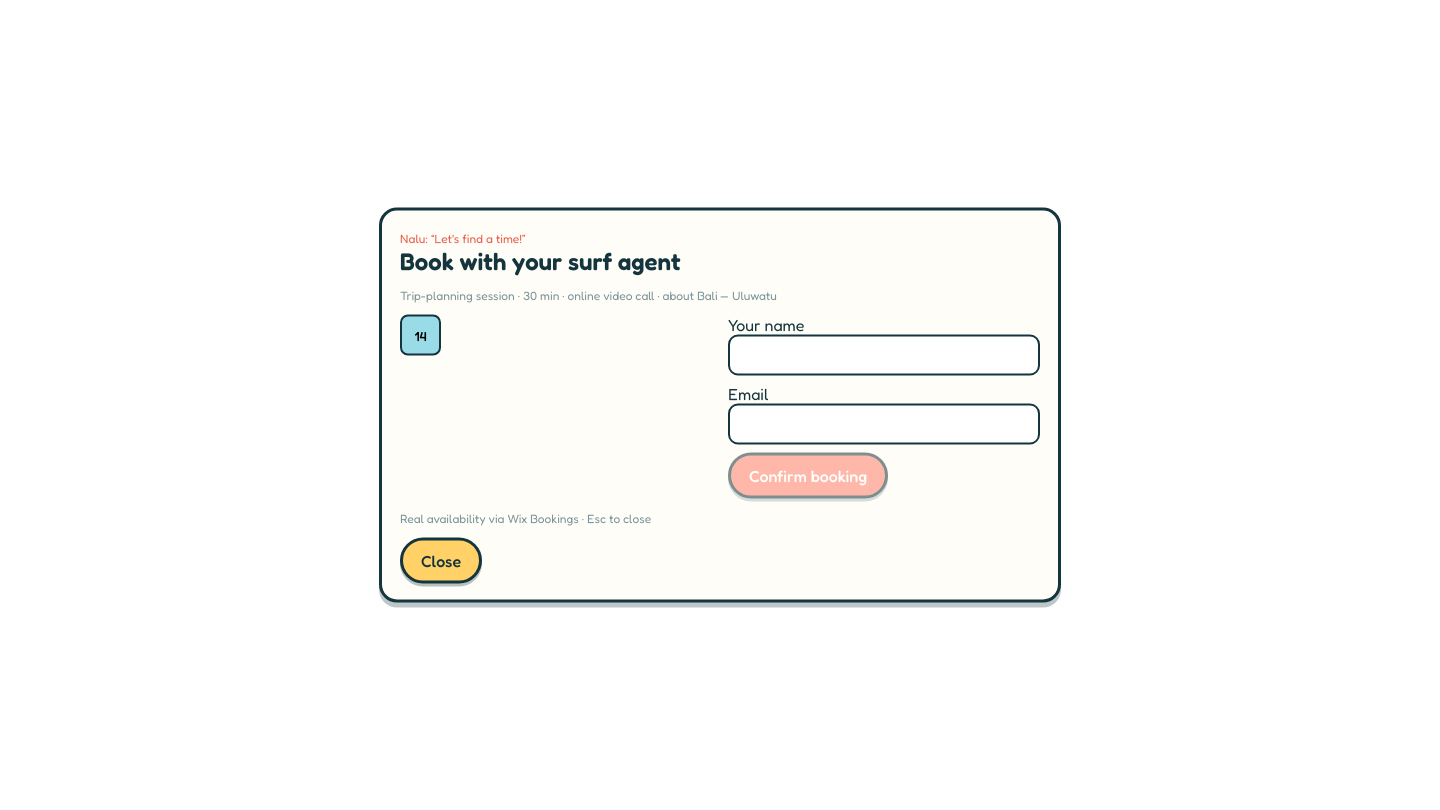
Test case: conflict re-queries and asks to pick another
Click the button "14" at (421, 335), box [400,314,441,356]
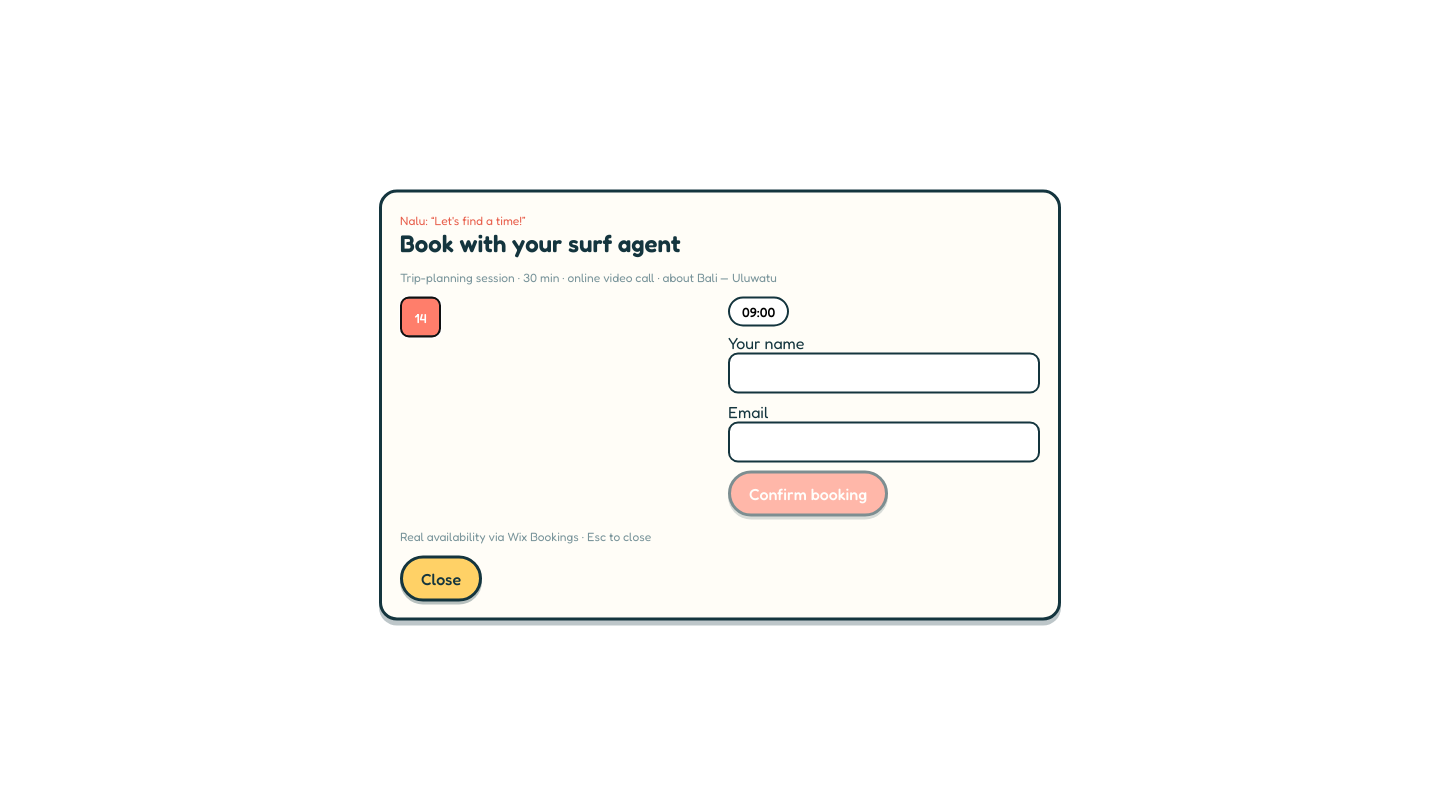
Click the button "09:00" at (759, 312), box [728,296,789,326]
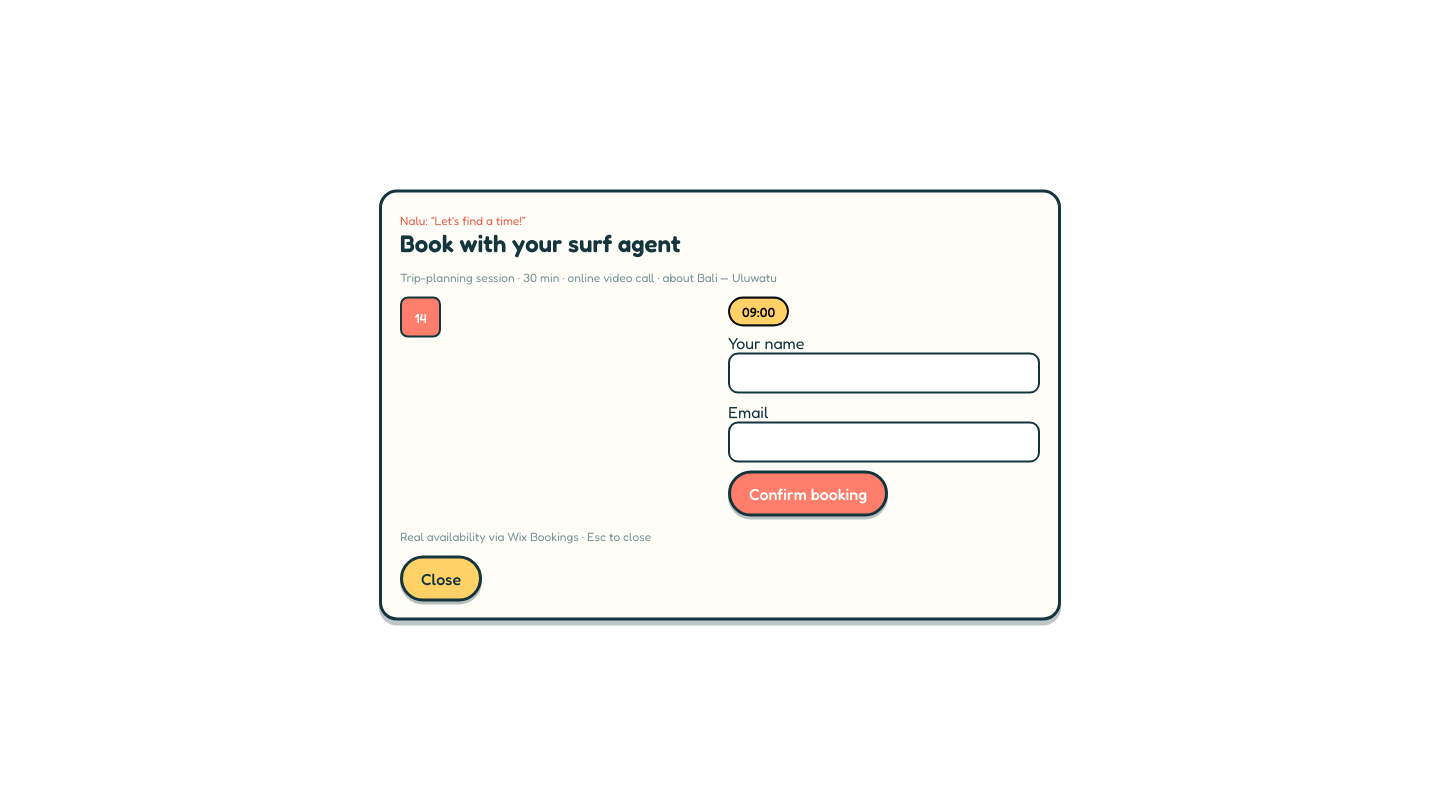
Type "Kai" into the field labelled "Your name" at (884, 373), box [728,352,1040,394]
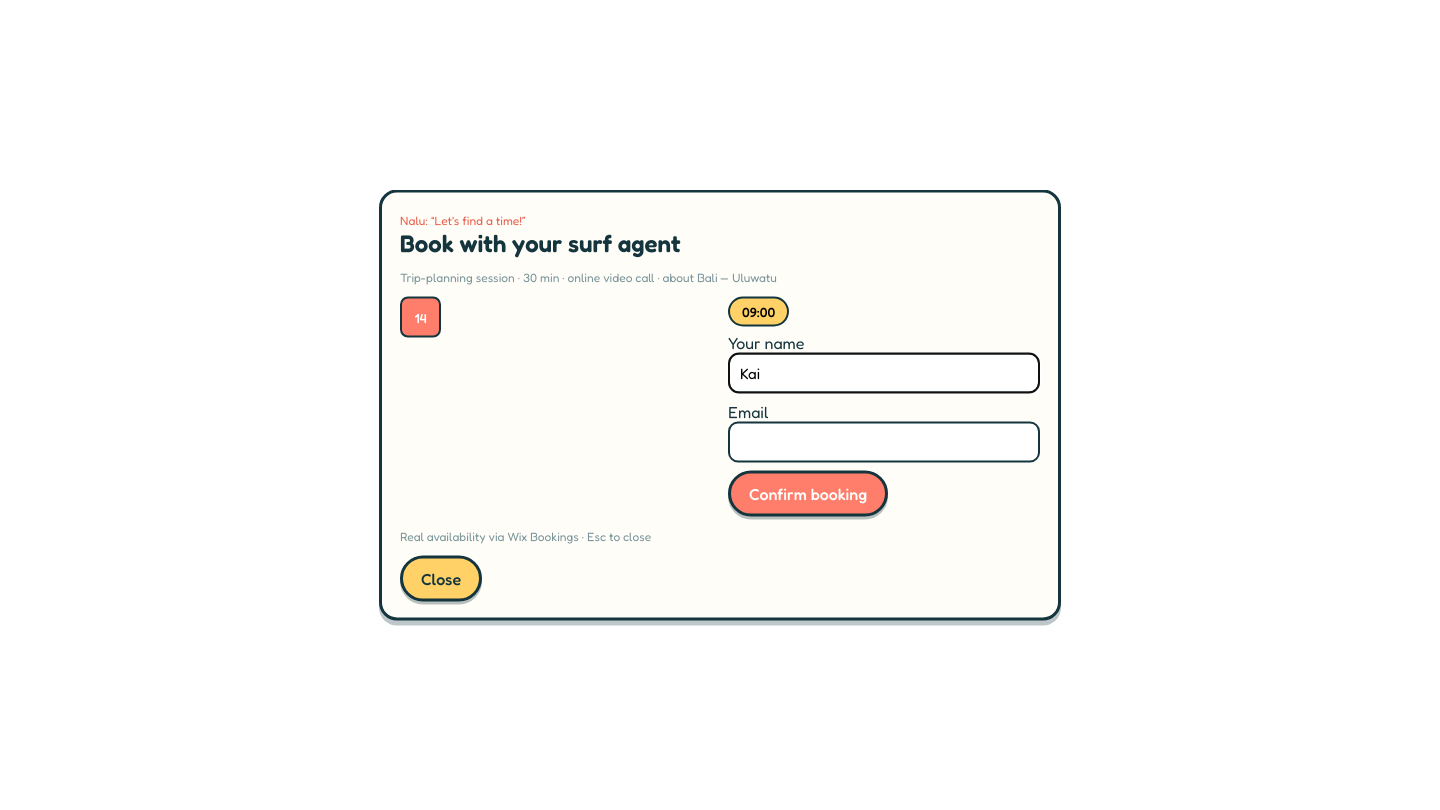
Type "kai@surf.com" into the field labelled "Email" at (884, 442), box [728,422,1040,462]
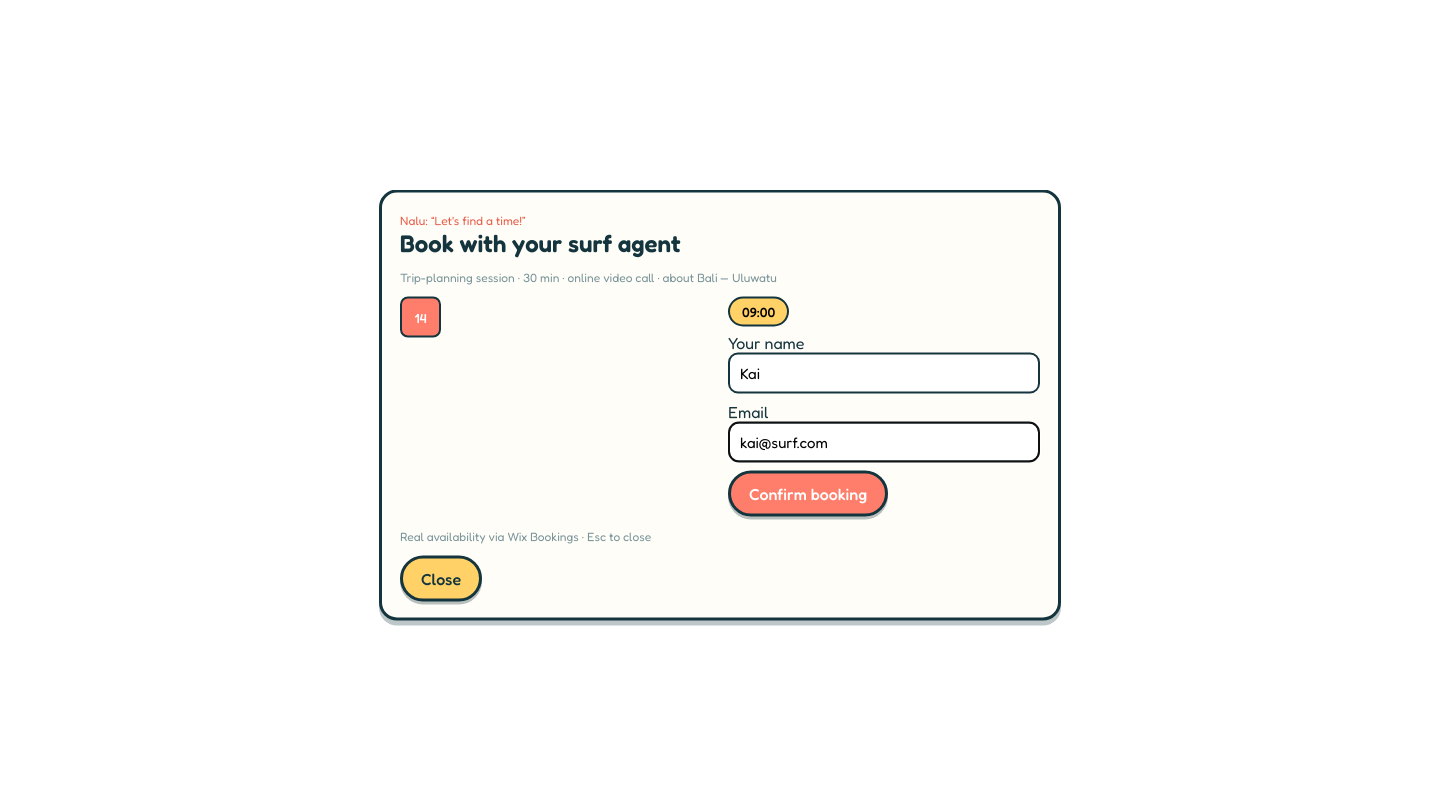
Click the button "Confirm booking" at (808, 494), box [728,470,888,516]
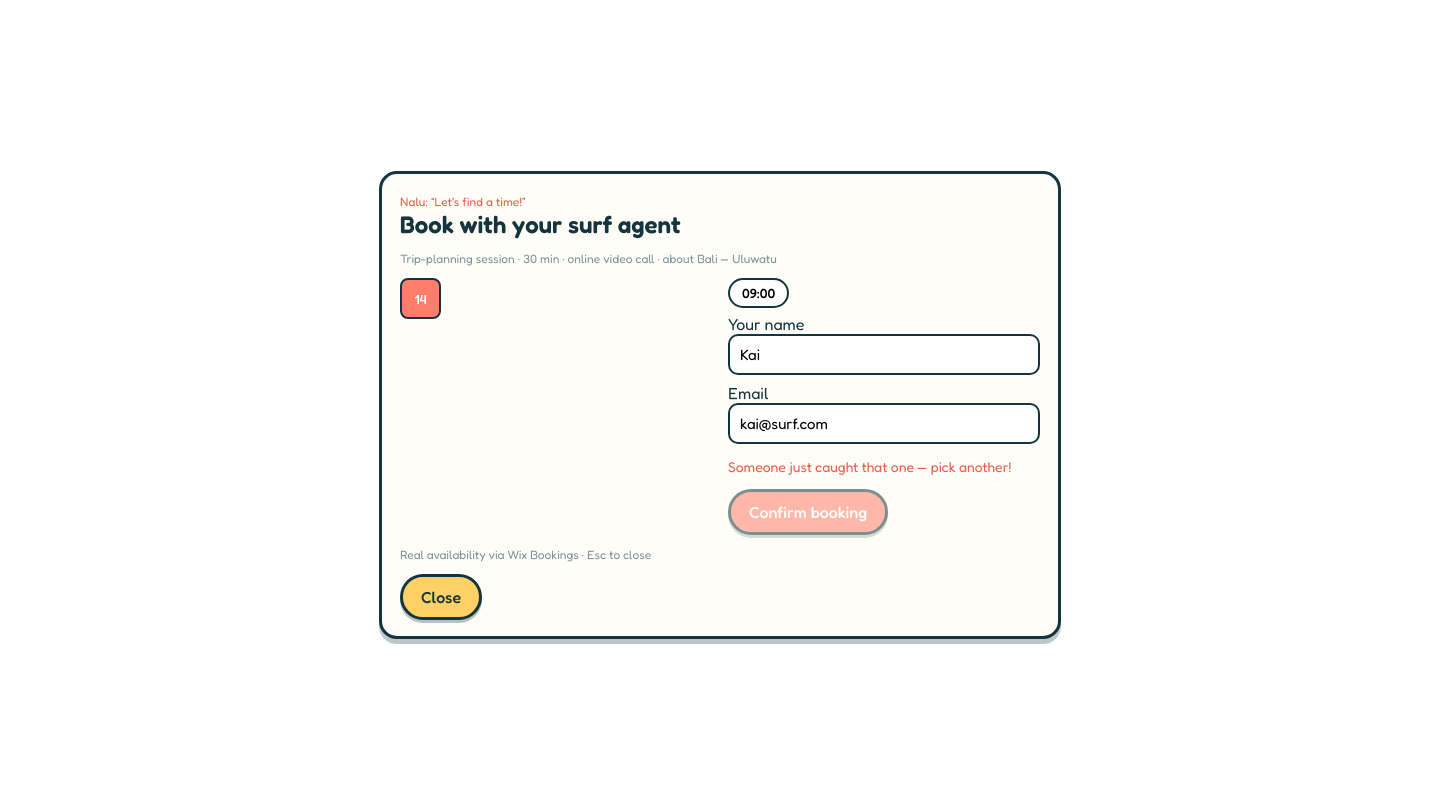
Result: the text "Someone just caught that one — pick another!" is shown at [728,458,1040,475]
